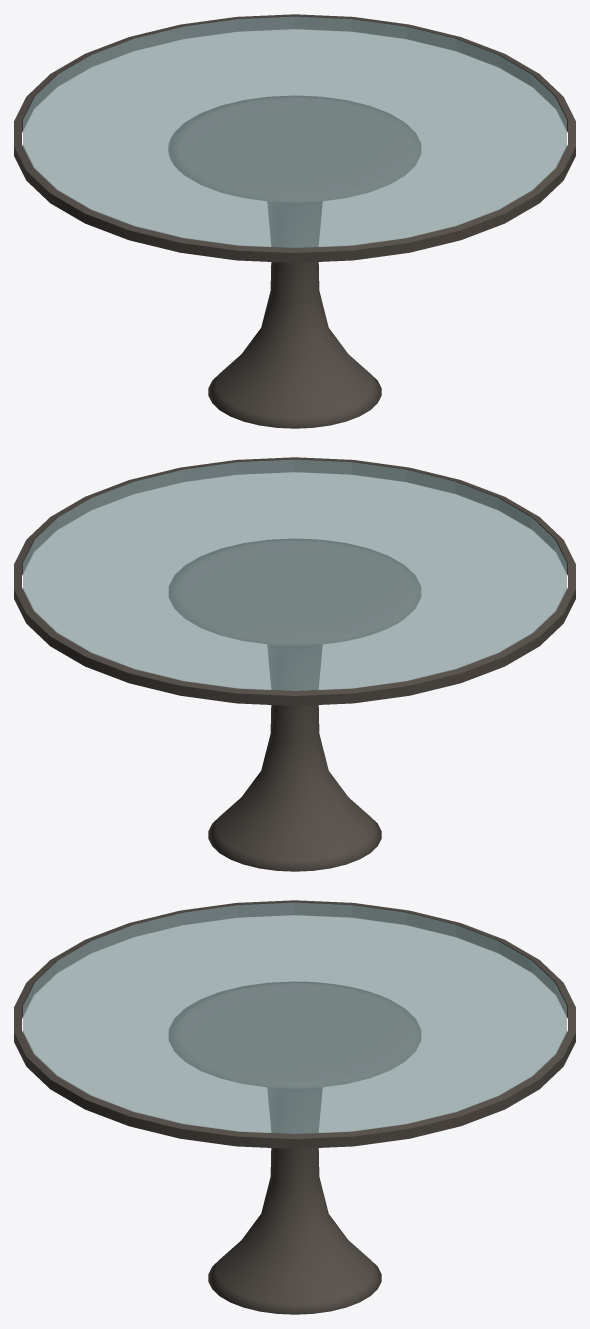
File: GlassTable_01 (Updated).fbx
3 renders of one model, top to bottom at view 1: azimuth 30°, elevation 25°; view 2: azimuth 150°, elevation 25°; view 3: azimuth 270°, elevation 25°, orthographic.
Parts seen in each view (by area): view 1: GlassTable_01; view 2: GlassTable_01; view 3: GlassTable_01.
Part boxes in pixels (<box>): GlassTable_01: <box>14,14,575,428</box>; GlassTable_01: <box>14,457,575,871</box>; GlassTable_01: <box>14,900,575,1314</box>.
Size of the model in its own units: 17.45 by 8.89 by 17.35.
